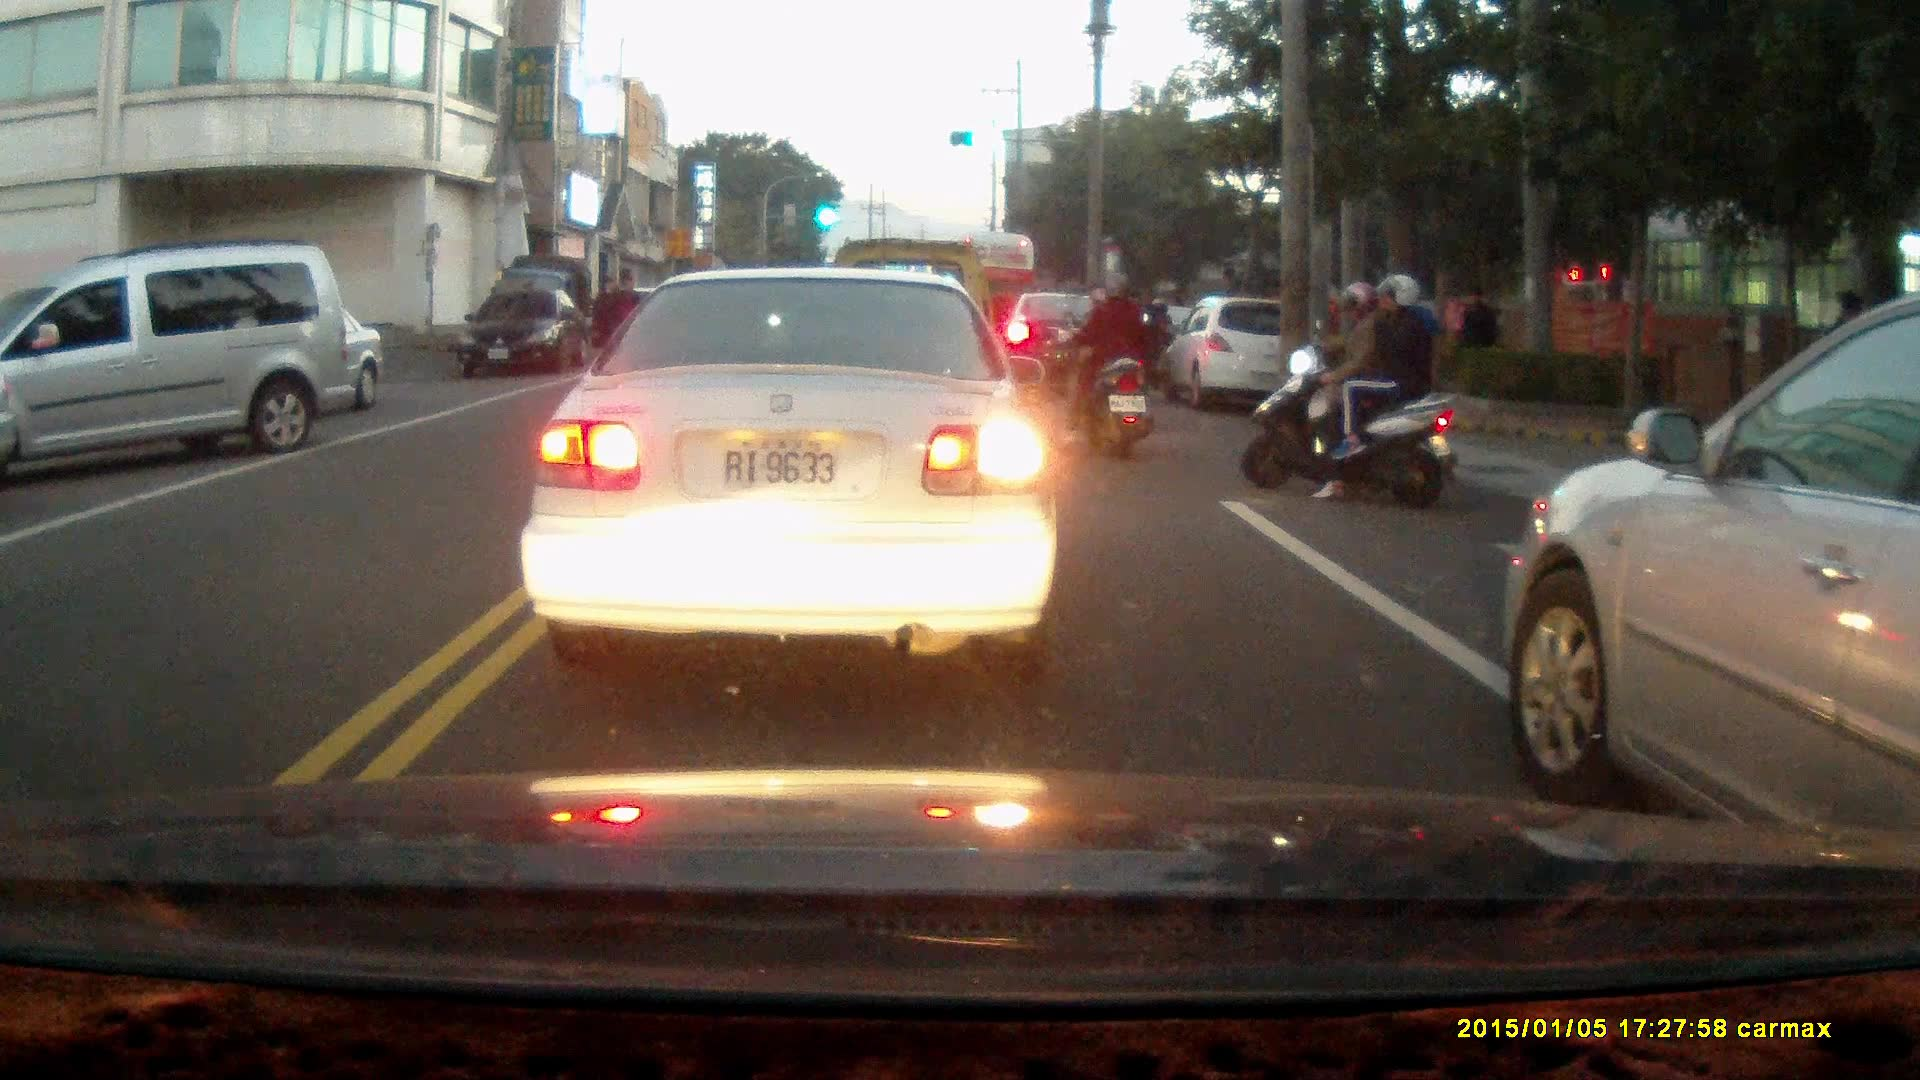pedestrian: (1453, 281, 1496, 379), (589, 275, 622, 362), (614, 273, 642, 360)
rider: (1239, 273, 1459, 510), (1060, 267, 1154, 459), (1139, 294, 1173, 379)
vehicle: (1505, 296, 1920, 847), (536, 264, 1056, 647), (1, 243, 360, 481), (1158, 295, 1313, 406), (996, 287, 1133, 396), (461, 284, 587, 378)
